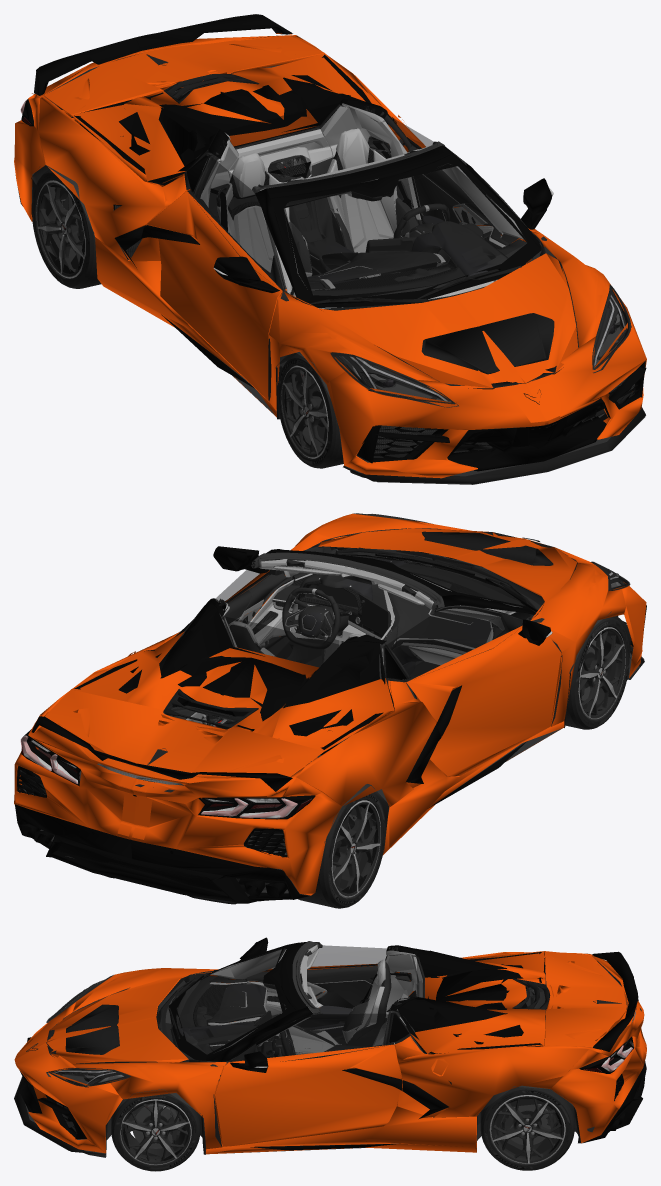
Rendered from corvette.lod.glb.
The picture shows the model from 3 angles, top to bottom: view 1: azimuth 30°, elevation 25°; view 2: azimuth 150°, elevation 25°; view 3: azimuth 270°, elevation 25°; orthographic projection. The views are drawn at different scales.
Visible parts, largest first — view 1: Mesh4_M_2020_Chevy_Corvette_C8_Convertible_Paint_0, Mesh27_M_2020_Chevy_Corvette_C8_Convertible_Coloured_0, Mesh1_M_2020_Chevy_Corvette_C8_Convertible_GlassMtl_0, Mesh6_M_2020_Chevy_Corvette_C8_Convertible_interior_0, Mesh7_TELA_INTERIOR_0, Mesh26_M_2020_Chevy_Corvette_C8_Convertible_TexturedA_0, Mesh43_M_2020_Chevy_Corvette_C8_Convertible_Wheel2A_0, Mesh28_M_2020_Chevy_Corvette_C8_Convertible_Lights_0, Mesh14_M_2020_Chevy_Corvette_C8_Convertible_CaliperColor_0, Mesh40_M_2020_Chevy_Corvette_C8_Convertible_Carbon1_0, Mesh30_M_2020_Chevy_Corvette_C8_Convertible_InteriorTilling_, Mesh32_M_2020_Chevy_Corvette_C8_Convertible_Grille7A_0 (+1 smaller); view 2: Mesh4_M_2020_Chevy_Corvette_C8_Convertible_Paint_0, Mesh27_M_2020_Chevy_Corvette_C8_Convertible_Coloured_0, Mesh6_M_2020_Chevy_Corvette_C8_Convertible_interior_0, Mesh43_M_2020_Chevy_Corvette_C8_Convertible_Wheel2A_0, Mesh1_M_2020_Chevy_Corvette_C8_Convertible_GlassMtl_0, Mesh26_M_2020_Chevy_Corvette_C8_Convertible_TexturedA_0, Mesh7_TELA_INTERIOR_0, Mesh28_M_2020_Chevy_Corvette_C8_Convertible_Lights_0, Mesh14_M_2020_Chevy_Corvette_C8_Convertible_CaliperColor_0, Mesh38_M_2020_Chevy_Corvette_C8_Convertible_Grille1A_0, Mesh47_M_2020_Chevy_Corvette_C8_Convertible_GlassAmberMtl_0, Mesh10_M_2020_Chevy_Corvette_C8_Convertible_engine_0 (+1 smaller); view 3: Mesh4_M_2020_Chevy_Corvette_C8_Convertible_Paint_0, Mesh27_M_2020_Chevy_Corvette_C8_Convertible_Coloured_0, Mesh1_M_2020_Chevy_Corvette_C8_Convertible_GlassMtl_0, Mesh6_M_2020_Chevy_Corvette_C8_Convertible_interior_0, Mesh43_M_2020_Chevy_Corvette_C8_Convertible_Wheel2A_0, Mesh7_TELA_INTERIOR_0, Mesh26_M_2020_Chevy_Corvette_C8_Convertible_TexturedA_0, Mesh14_M_2020_Chevy_Corvette_C8_Convertible_CaliperColor_0, Mesh28_M_2020_Chevy_Corvette_C8_Convertible_Lights_0, Mesh40_M_2020_Chevy_Corvette_C8_Convertible_Carbon1_0, Mesh10_M_2020_Chevy_Corvette_C8_Convertible_engine_0, Mesh30_M_2020_Chevy_Corvette_C8_Convertible_InteriorTilling_.
Boxes of the visible parts, left/top/right/bottom form: Mesh4_M_2020_Chevy_Corvette_C8_Convertible_Paint_0: left=14, top=33, right=646, bottom=478; Mesh27_M_2020_Chevy_Corvette_C8_Convertible_Coloured_0: left=15, top=14, right=646, bottom=471; Mesh1_M_2020_Chevy_Corvette_C8_Convertible_GlassMtl_0: left=194, top=102, right=630, bottom=403; Mesh6_M_2020_Chevy_Corvette_C8_Convertible_interior_0: left=194, top=105, right=578, bottom=447; Mesh7_TELA_INTERIOR_0: left=200, top=103, right=524, bottom=308; Mesh26_M_2020_Chevy_Corvette_C8_Convertible_TexturedA_0: left=31, top=74, right=645, bottom=483; Mesh43_M_2020_Chevy_Corvette_C8_Convertible_Wheel2A_0: left=32, top=169, right=343, bottom=468; Mesh28_M_2020_Chevy_Corvette_C8_Convertible_Lights_0: left=21, top=53, right=631, bottom=404; Mesh14_M_2020_Chevy_Corvette_C8_Convertible_CaliperColor_0: left=31, top=111, right=645, bottom=484; Mesh40_M_2020_Chevy_Corvette_C8_Convertible_Carbon1_0: left=228, top=148, right=503, bottom=290; Mesh30_M_2020_Chevy_Corvette_C8_Convertible_InteriorTilling_: left=289, top=197, right=418, bottom=278; Mesh32_M_2020_Chevy_Corvette_C8_Convertible_Grille7A_0: left=115, top=138, right=634, bottom=453; Mesh4_M_2020_Chevy_Corvette_C8_Convertible_Paint_0: left=14, top=513, right=646, bottom=895; Mesh27_M_2020_Chevy_Corvette_C8_Convertible_Coloured_0: left=15, top=546, right=646, bottom=903; Mesh6_M_2020_Chevy_Corvette_C8_Convertible_interior_0: left=222, top=528, right=577, bottom=726; Mesh43_M_2020_Chevy_Corvette_C8_Convertible_Wheel2A_0: left=298, top=617, right=629, bottom=908; Mesh1_M_2020_Chevy_Corvette_C8_Convertible_GlassMtl_0: left=31, top=513, right=629, bottom=802; Mesh26_M_2020_Chevy_Corvette_C8_Convertible_TexturedA_0: left=104, top=531, right=644, bottom=904; Mesh7_TELA_INTERIOR_0: left=220, top=559, right=522, bottom=679; Mesh28_M_2020_Chevy_Corvette_C8_Convertible_Lights_0: left=21, top=513, right=629, bottom=818; Mesh14_M_2020_Chevy_Corvette_C8_Convertible_CaliperColor_0: left=17, top=543, right=644, bottom=893; Mesh38_M_2020_Chevy_Corvette_C8_Convertible_Grille1A_0: left=57, top=842, right=222, bottom=891; Mesh47_M_2020_Chevy_Corvette_C8_Convertible_GlassAmberMtl_0: left=21, top=736, right=311, bottom=817; Mesh10_M_2020_Chevy_Corvette_C8_Convertible_engine_0: left=56, top=574, right=451, bottom=837; Mesh4_M_2020_Chevy_Corvette_C8_Convertible_Paint_0: left=14, top=951, right=646, bottom=1154; Mesh27_M_2020_Chevy_Corvette_C8_Convertible_Coloured_0: left=19, top=937, right=646, bottom=1150; Mesh1_M_2020_Chevy_Corvette_C8_Convertible_GlassMtl_0: left=48, top=945, right=636, bottom=1086; Mesh6_M_2020_Chevy_Corvette_C8_Convertible_interior_0: left=49, top=941, right=424, bottom=1146; Mesh43_M_2020_Chevy_Corvette_C8_Convertible_Wheel2A_0: left=111, top=996, right=574, bottom=1171; Mesh7_TELA_INTERIOR_0: left=208, top=945, right=422, bottom=1054; Mesh26_M_2020_Chevy_Corvette_C8_Convertible_TexturedA_0: left=14, top=947, right=580, bottom=1154; Mesh14_M_2020_Chevy_Corvette_C8_Convertible_CaliperColor_0: left=14, top=948, right=633, bottom=1157; Mesh28_M_2020_Chevy_Corvette_C8_Convertible_Lights_0: left=48, top=975, right=636, bottom=1086; Mesh40_M_2020_Chevy_Corvette_C8_Convertible_Carbon1_0: left=193, top=981, right=384, bottom=1051; Mesh10_M_2020_Chevy_Corvette_C8_Convertible_engine_0: left=196, top=947, right=631, bottom=1071; Mesh30_M_2020_Chevy_Corvette_C8_Convertible_InteriorTilling_: left=310, top=1001, right=368, bottom=1044.
Bounding box in the file's own units: 0.9007 × 0.4996 × 1.94.
Materials: 27 (15 with a texture image).
